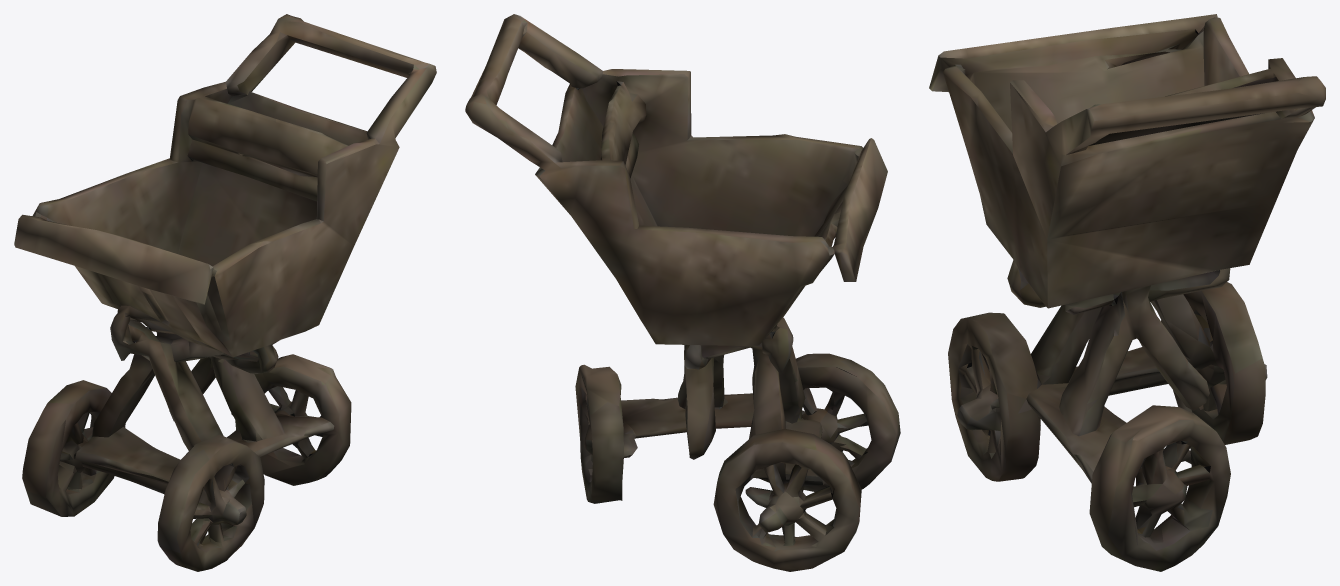
File: worn-wood-cart-v001.glb
3 renders of one model, left to right at view 1: azimuth 30°, elevation 25°; view 2: azimuth 150°, elevation 25°; view 3: azimuth 270°, elevation 25°, orthographic. The views are drawn at different scales.
Parts seen in each view (by area): view 1: worn-wood-cart; view 2: worn-wood-cart; view 3: worn-wood-cart.
Part boxes in pixels (x1,y1,x2,y2): worn-wood-cart: (14,14,436,571); worn-wood-cart: (465,14,900,571); worn-wood-cart: (929,14,1325,571).
Bounding box in the file's own units: 0.8789 × 0.9174 × 0.6302.
Materials: 1 (1 with a texture image).
